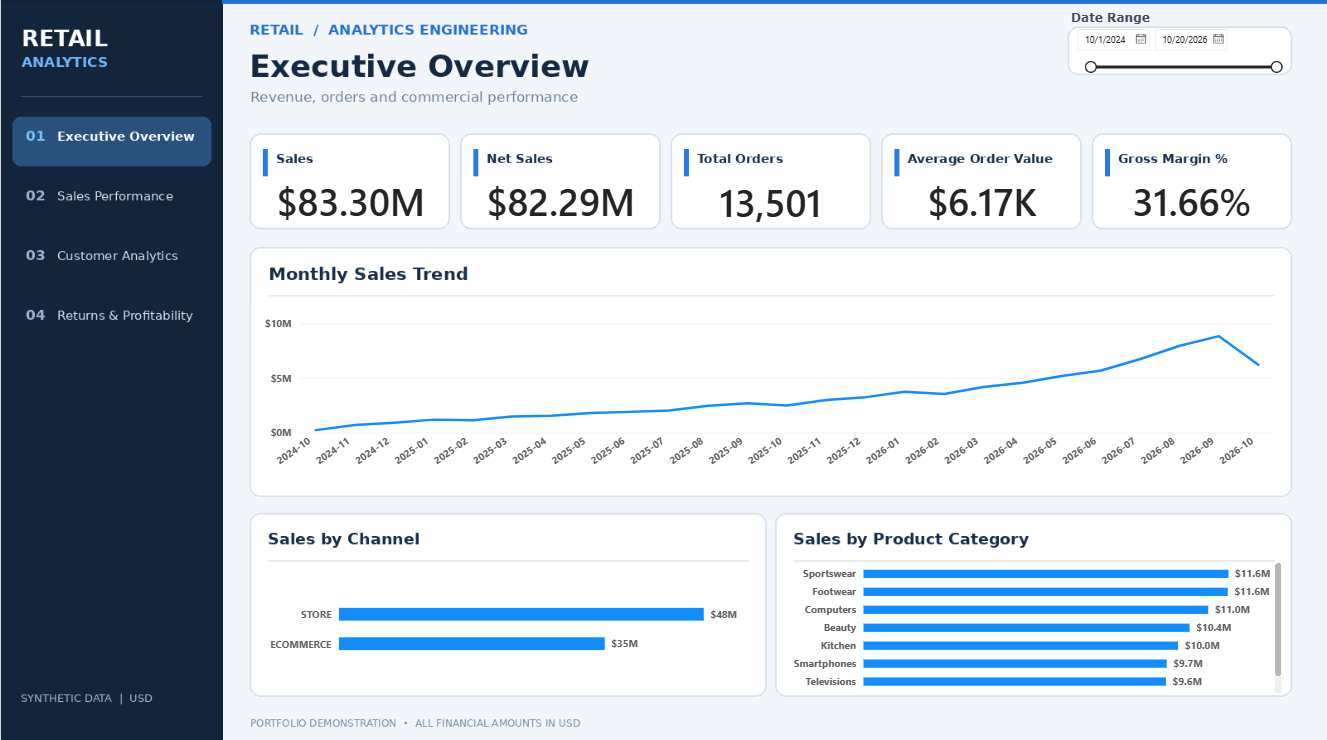

The dashboard page shown, as its layout file describes it:
{"tool":"powerbi","page":{"name":"Executive Overview","canvas":[1600,900],"ordinal":0},"visuals":[{"type":"shape","box":[1069.2,683.1,368,149.3],"z":0},{"type":"shape","box":[1296.9,40.7,179.5,42.2],"z":1000},{"type":"cardVisual","fields":{"Data":["marts fct_order_items.Sales"]},"box":[307,216,228.2,54.3],"z":2000},{"type":"lineChart","title":"Monthly Sales Trend","fields":{"Category":["dim_date.Year Month"],"Y":["marts fct_order_items.Sales"]},"box":[301.6,368,1250.2,224.7],"z":3000},{"type":"barChart","fields":{"Category":["marts dim_channel.channel_name"],"Y":["marts fct_order_items.Sales"]},"box":[307.6,680.1,597.2,155.3],"z":4000},{"type":"slicer","fields":{"Values":["dim_date.Date"]},"box":[1291.1,32.1,263.7,69.5],"z":5000},{"type":"cardVisual","fields":{"Data":["marts fct_order_items.Net Sales"]},"box":[561,216,228.2,54.3],"z":6000},{"type":"cardVisual","fields":{"Data":["marts fct_order_items.Total Orders"]},"box":[815,216.6,228.2,54.3],"z":7000},{"type":"cardVisual","fields":{"Data":["marts fct_order_items.Average Order Value"]},"box":[1069,216,228.2,54.3],"z":8000},{"type":"cardVisual","fields":{"Data":["marts fct_order_items.Gross Margin %"]},"box":[1323,216,228.2,54.3],"z":9000},{"type":"barChart","fields":{"Category":["marts dim_product.category_name"],"Y":["marts fct_order_items.Sales"]},"box":[939.5,657.5,621.3,196],"z":10000},{"type":"textbox","box":[1291,12.1,176.4,31.7],"z":11000},{"type":"actionButton","box":[16.6,220.2,209.6,33.2],"z":11002},{"type":"actionButton","box":[16.6,294.1,209.6,33.2],"z":11003},{"type":"actionButton","box":[25.6,364.9,209.6,33.2],"z":11004}]}

Visuals, with their boxes on the page's 1600x900 design canvas (x1, y1, x2, y2). These are canvas units, not pixel positions in the 1327x740 screenshot, which may show the page scaled, cropped or inside an application window:
shape: bbox=[1069, 683, 1437, 832]
shape: bbox=[1297, 41, 1476, 83]
cardVisual - marts fct_order_items.Sales: bbox=[307, 216, 535, 270]
"Monthly Sales Trend" lineChart: bbox=[302, 368, 1552, 593]
barChart - marts dim_channel.channel_name x marts fct_order_items.Sales: bbox=[308, 680, 905, 835]
slicer - dim_date.Date: bbox=[1291, 32, 1555, 102]
cardVisual - marts fct_order_items.Net Sales: bbox=[561, 216, 789, 270]
cardVisual - marts fct_order_items.Total Orders: bbox=[815, 217, 1043, 271]
cardVisual - marts fct_order_items.Average Order Value: bbox=[1069, 216, 1297, 270]
cardVisual - marts fct_order_items.Gross Margin %: bbox=[1323, 216, 1551, 270]
barChart - marts dim_product.category_name x marts fct_order_items.Sales: bbox=[940, 658, 1561, 854]
textbox: bbox=[1291, 12, 1467, 44]
actionButton: bbox=[17, 220, 226, 253]
actionButton: bbox=[17, 294, 226, 327]
actionButton: bbox=[26, 365, 235, 398]
